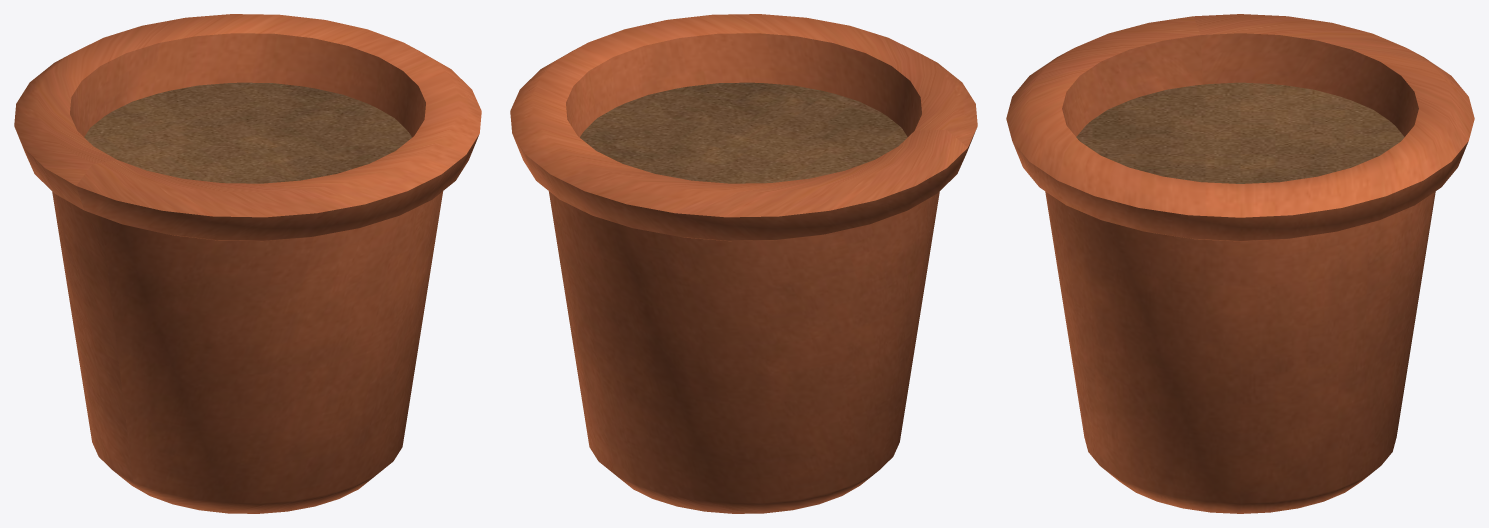
The model's file is pot_small.glb.
3 renders of one model, left to right at view 1: azimuth 30°, elevation 25°; view 2: azimuth 150°, elevation 25°; view 3: azimuth 270°, elevation 25°, orthographic.
Visible parts, largest first — view 1: pot_small; view 2: pot_small; view 3: pot_small.
Boxes of the visible parts, x1,y1,x2,y2 form: pot_small: [14, 14, 481, 513]; pot_small: [510, 14, 977, 513]; pot_small: [1006, 14, 1474, 513].
Size of the model in its own units: 0.84 by 0.7 by 0.84.
2 materials, 2 textured.
